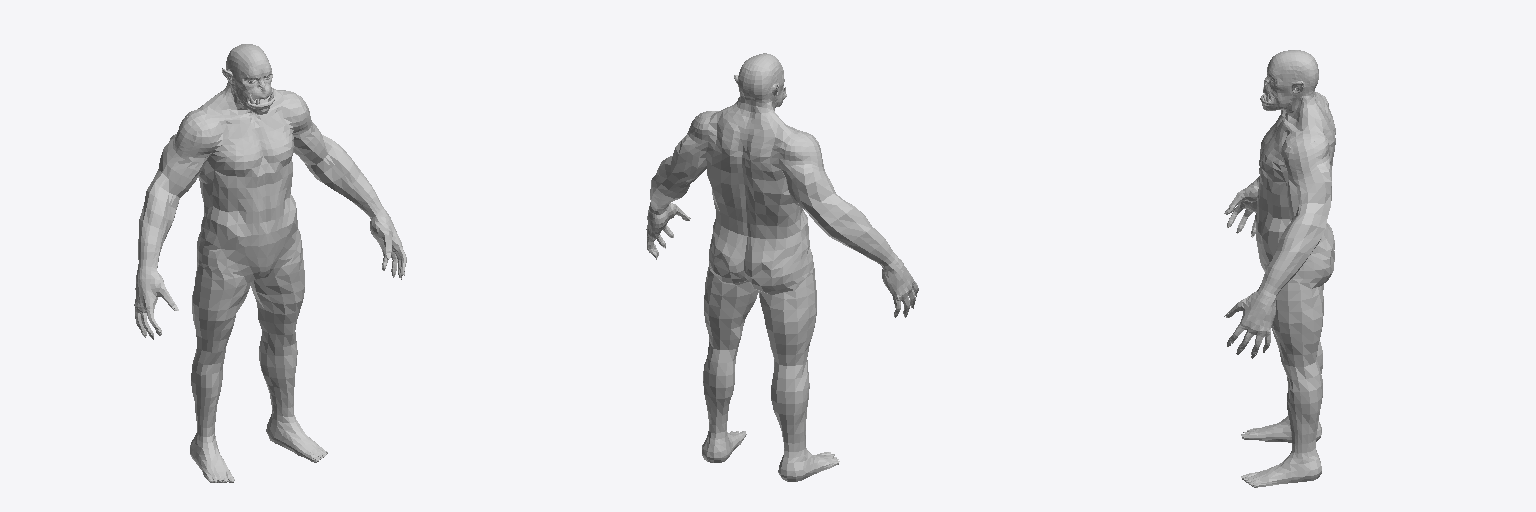
File: orc2.obj
3 views of the same model, side by side, from view 1: azimuth 30°, elevation 25°; view 2: azimuth 150°, elevation 25°; view 3: azimuth 270°, elevation 25° (orthographic).
Parts seen in each view (by area): view 1: BodyMain_RetopoFlow.001; view 2: BodyMain_RetopoFlow.001; view 3: BodyMain_RetopoFlow.001.
Boxes of the visible parts, box(x1,y1,x2,y2) form: BodyMain_RetopoFlow.001: box(134, 44, 406, 482); BodyMain_RetopoFlow.001: box(646, 53, 918, 481); BodyMain_RetopoFlow.001: box(1226, 50, 1335, 487).
Size of the model in its own units: 1.43 by 2.14 by 0.5282.